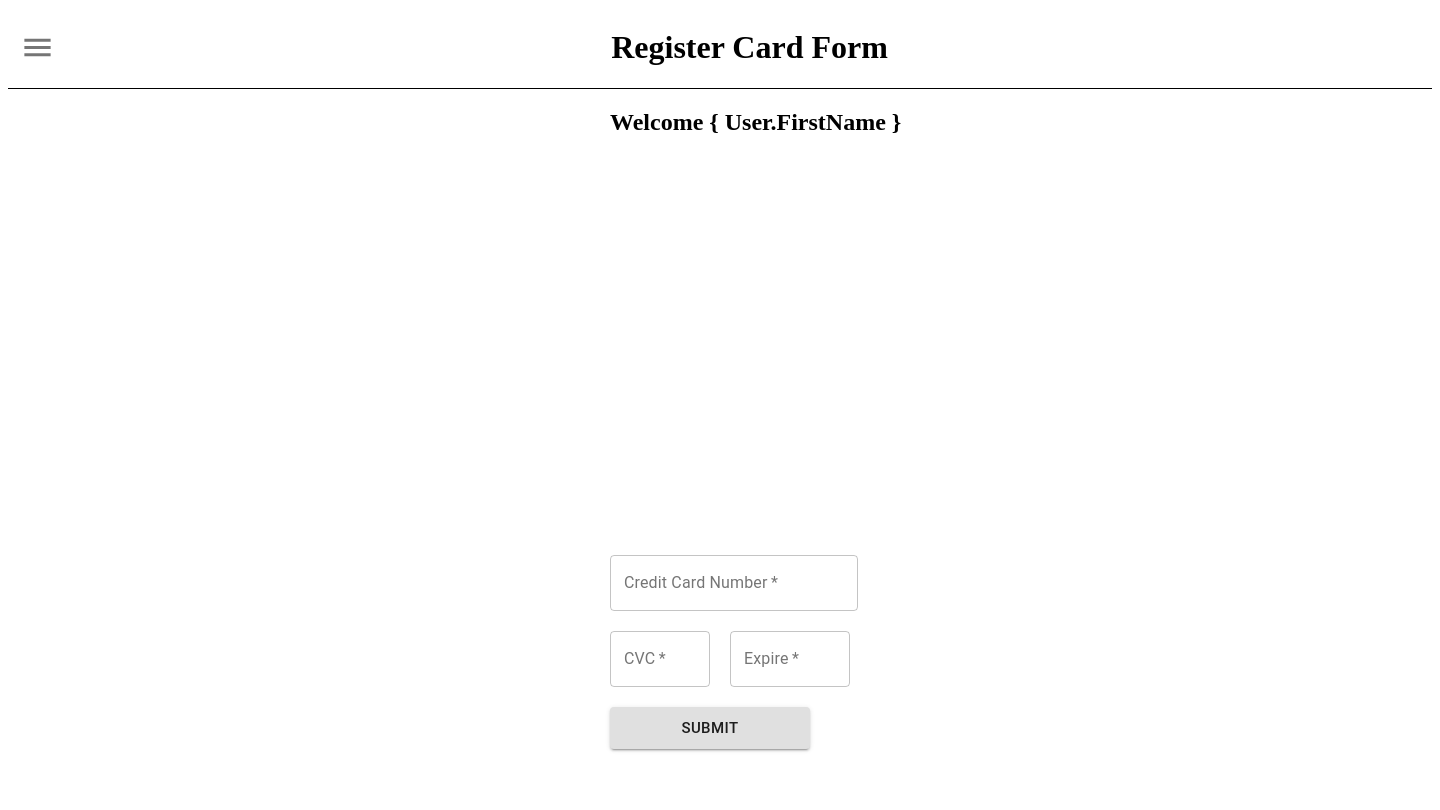
Test case: test credit card input
In the field with test id "CreditCardNumber": (734, 583) [610,555,858,611], type "123456789"
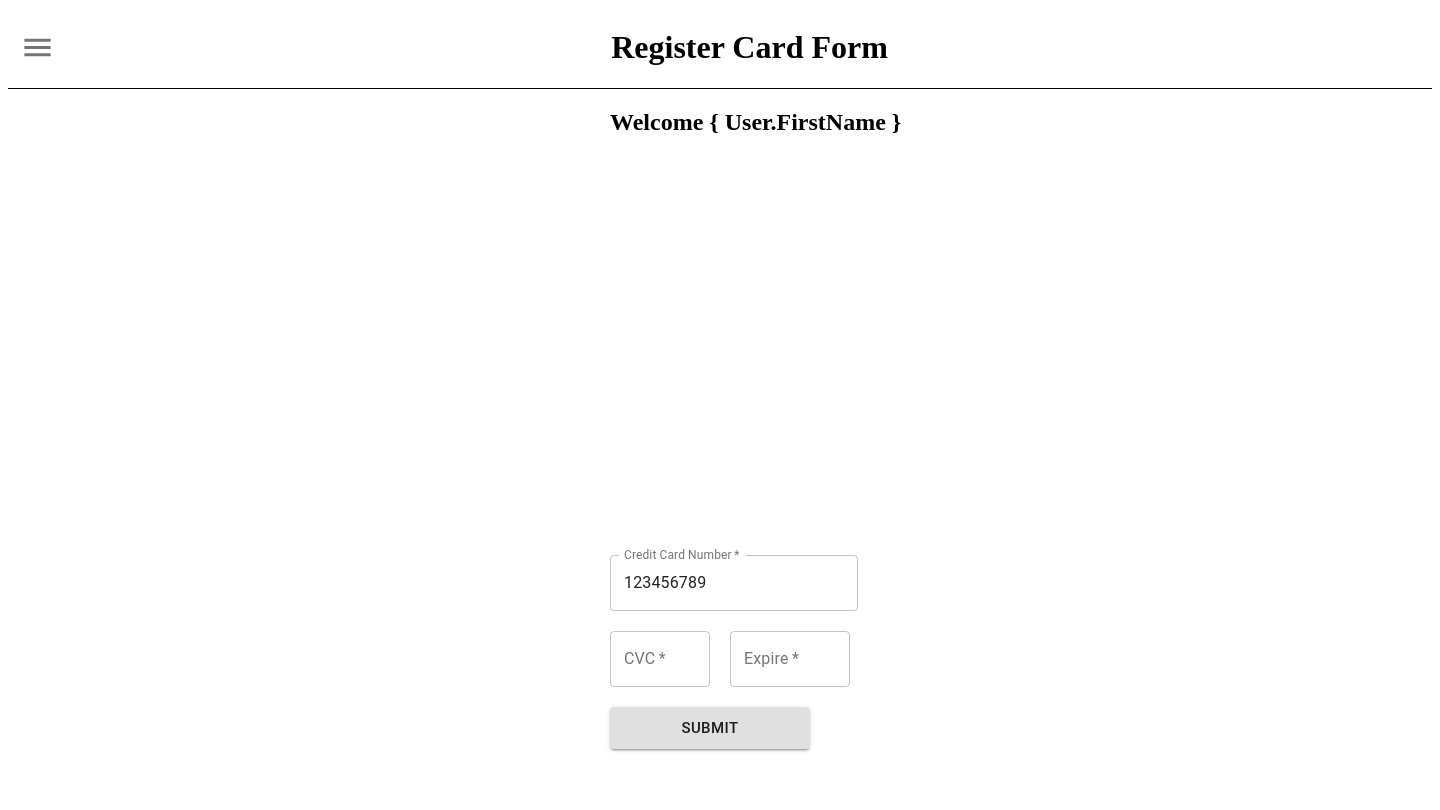
Expected: the text "This field should be a number" is not shown
Replace the text in the field with test id "CreditCardNumber" with "CreditCardNumber": (734, 583) [610,555,858,611]
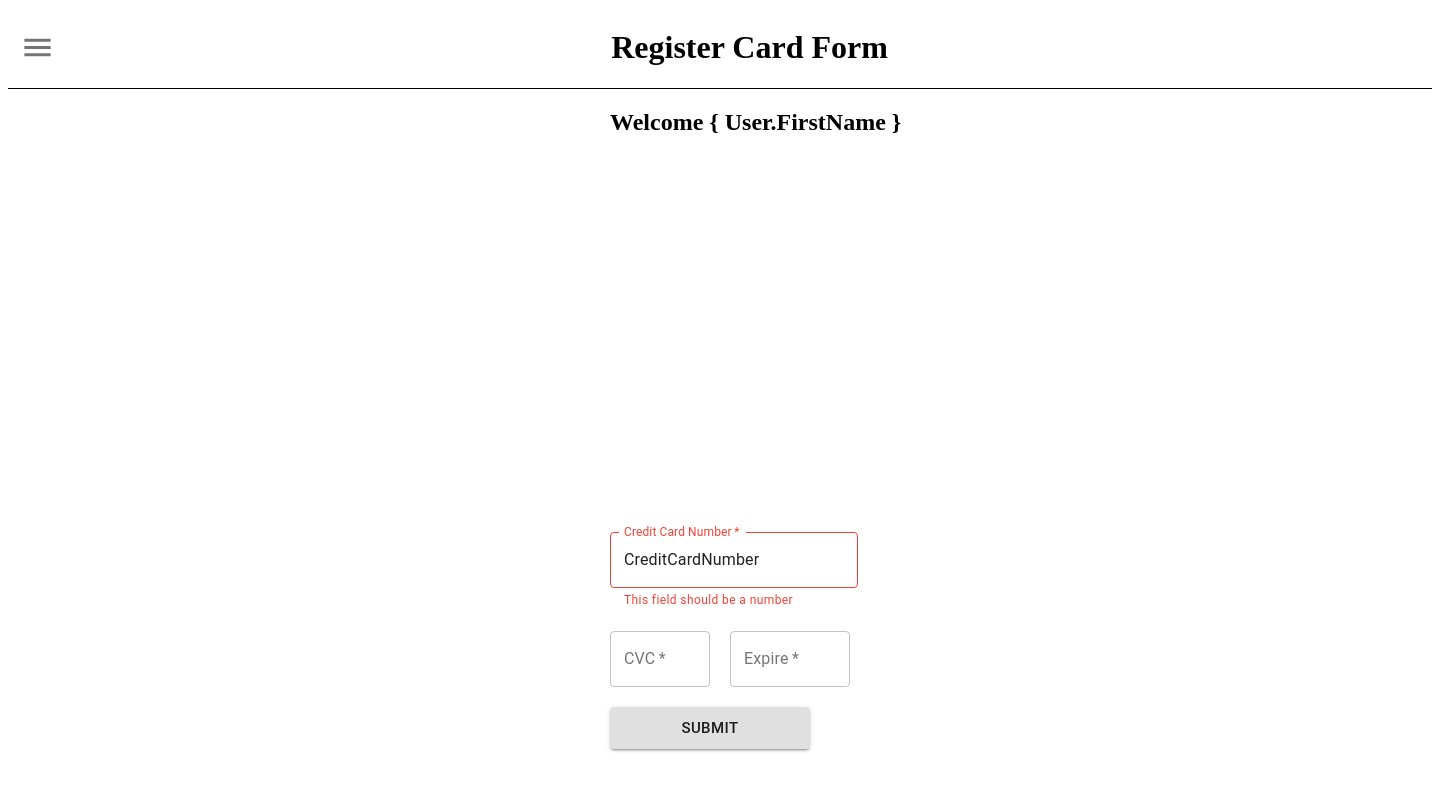
Expected: the text "This field should be a number" is shown, [624,593,793,607]
